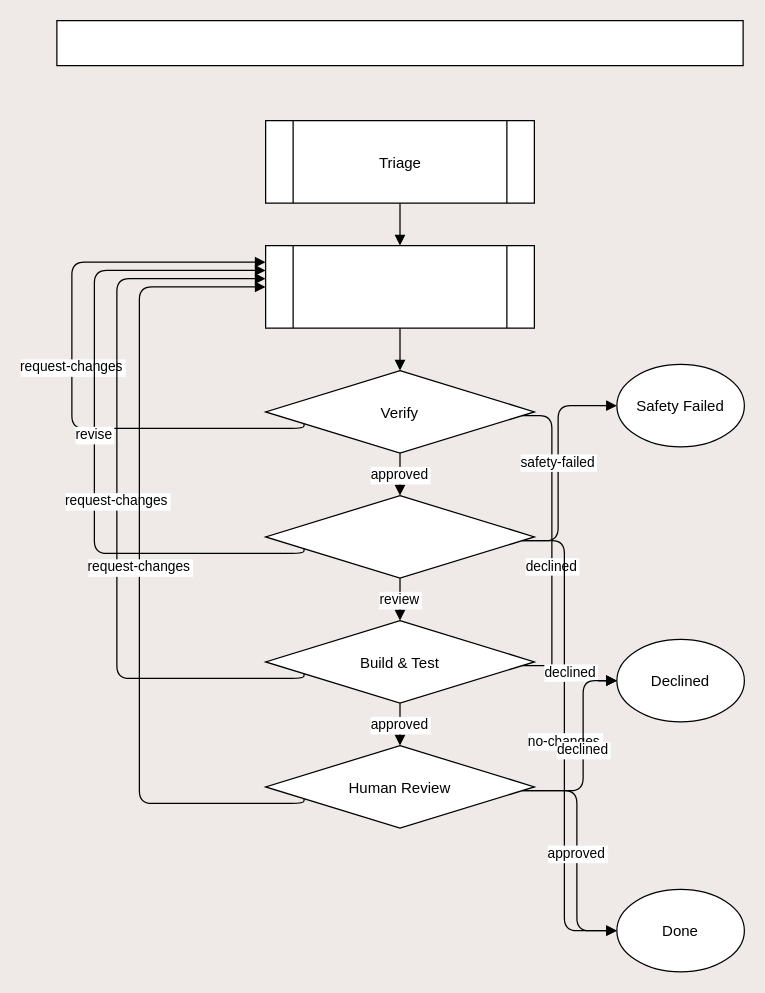
The diagram is 765 pixels wide and 993 high, and some of its shapes have lost their labels. The shapes that lost their labels are listed below. From the top down, each one's box as (x1, y1, x2, y2) in pixels, then its label:
(56, 19, 743, 66): Bug Fix workflow
(264, 244, 534, 328): Fix
(264, 494, 534, 578): RAI Check
